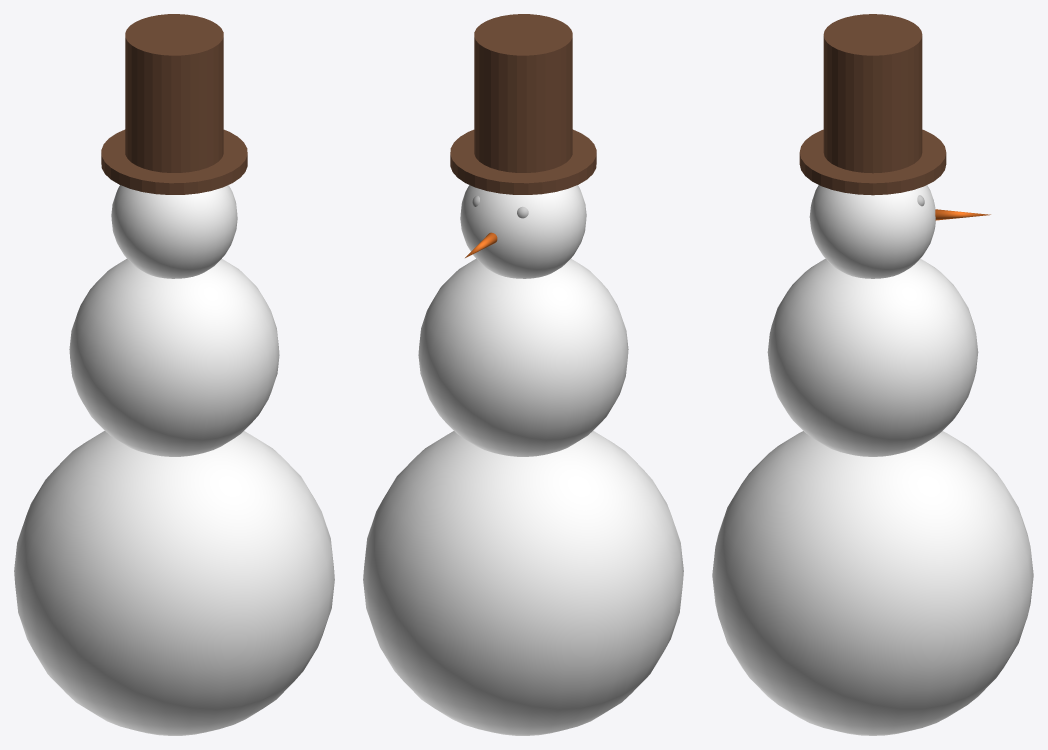
File: snowman.fbx
3 views of the same model, side by side, from view 1: azimuth 30°, elevation 25°; view 2: azimuth 150°, elevation 25°; view 3: azimuth 270°, elevation 25° (orthographic).
Parts seen in each view (by area): view 1: bottom_sphere, middle_sphere, Hat, top_sphere; view 2: bottom_sphere, middle_sphere, Hat, top_sphere; view 3: bottom_sphere, middle_sphere, Hat, top_sphere.
Boxes of the visible parts, bbox=[...] form: bottom_sphere: bbox=[14, 431, 334, 735]; middle_sphere: bbox=[69, 259, 279, 456]; Hat: bbox=[101, 14, 247, 194]; top_sphere: bbox=[111, 185, 237, 278]; bottom_sphere: bbox=[363, 431, 683, 735]; middle_sphere: bbox=[418, 259, 628, 456]; Hat: bbox=[450, 14, 596, 194]; top_sphere: bbox=[460, 185, 586, 278]; bottom_sphere: bbox=[712, 431, 1033, 735]; middle_sphere: bbox=[767, 258, 978, 456]; Hat: bbox=[799, 14, 946, 195]; top_sphere: bbox=[809, 185, 935, 278].
Bounding box in the file's own units: 2 × 4.71 × 2.
